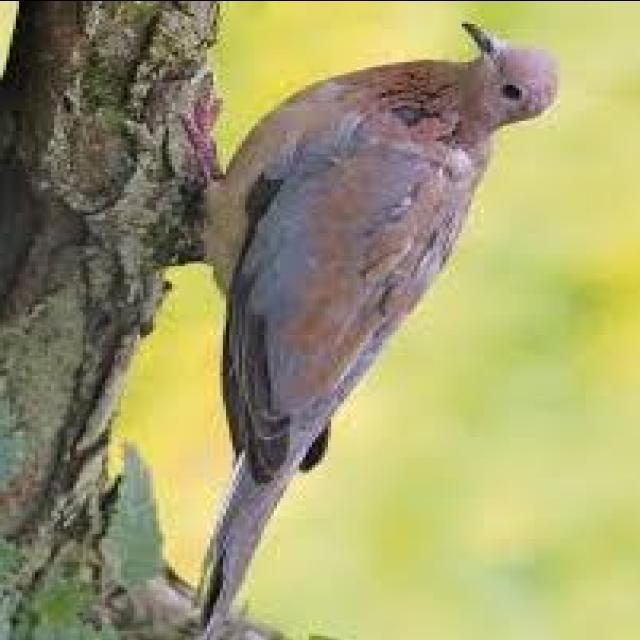pigeon: (114, 0, 557, 638)
